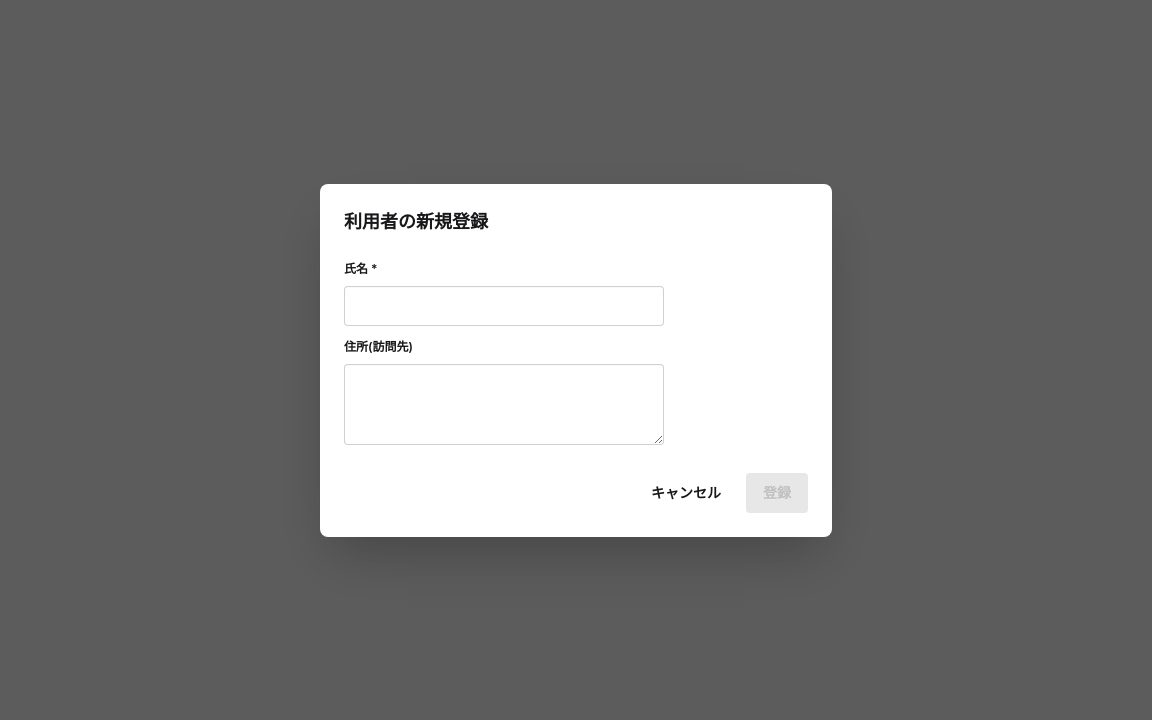
ClientModal › 必須項目が未入力の場合、エラーメッセージが表示される
氏名フィールドにフォーカスして離れる（バリデーショントリガー）
Click the field labelled "氏名 *" at [504, 306], box [344,286,664,326]
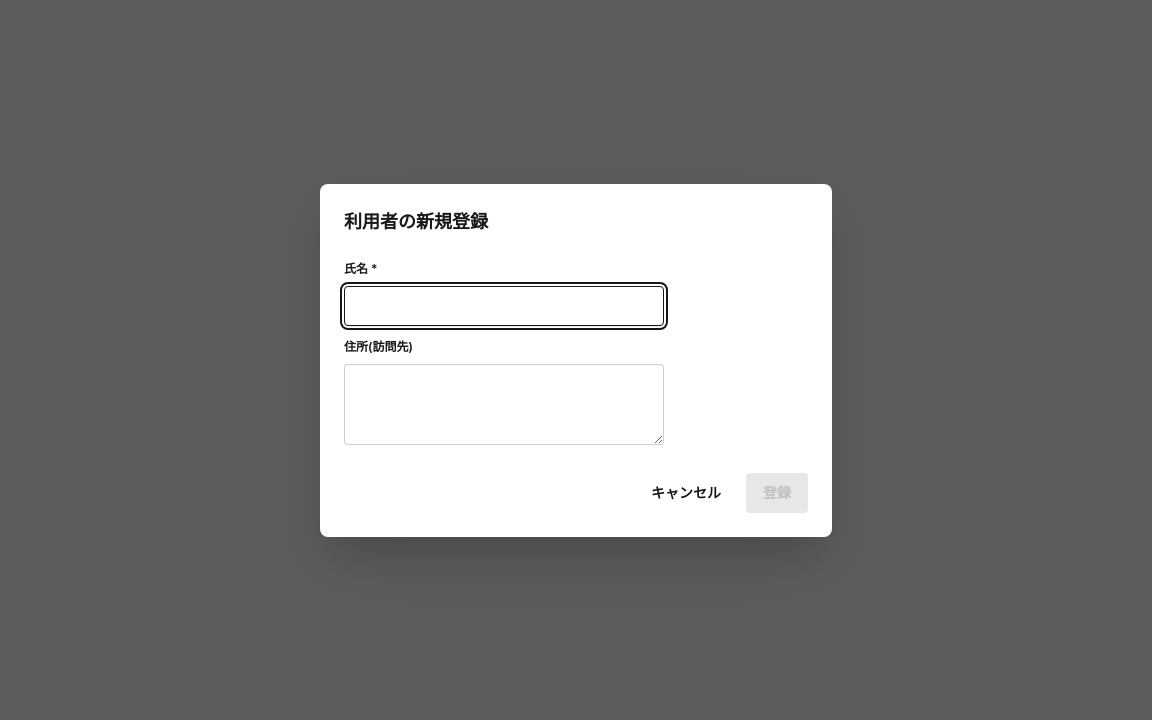
Click the text box labelled "住所(訪問先)" at [504, 404], box [344,364,664,444]
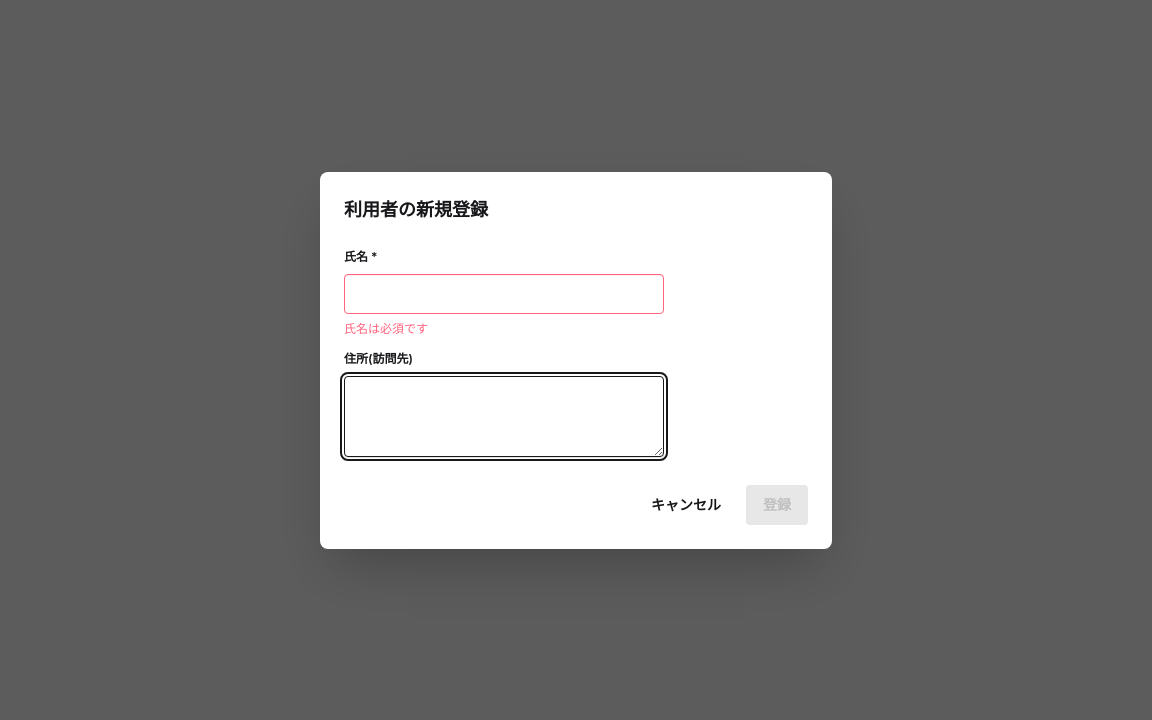
Expected: the text "氏名は必須です" is shown, [344,320,428,338]
